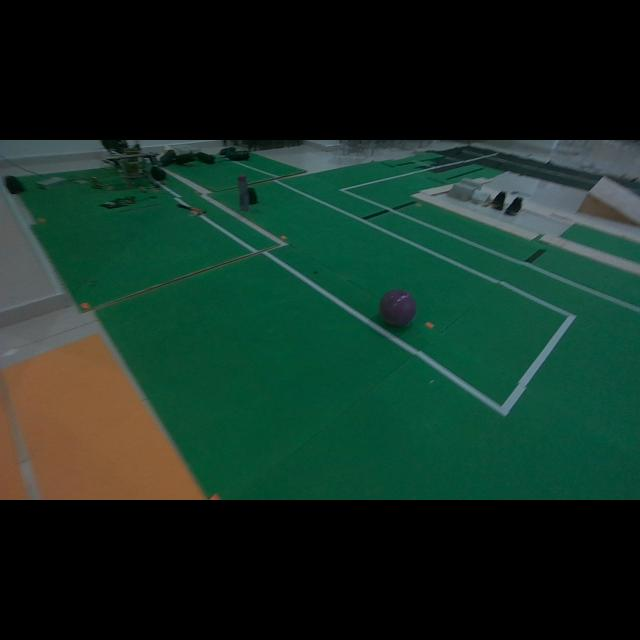P: (379, 290, 416, 328)
